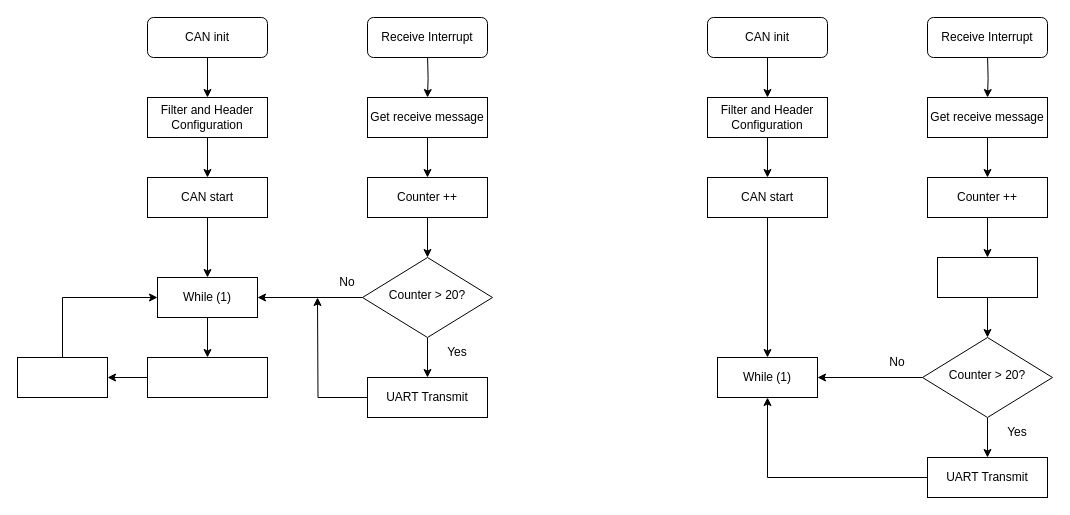
Some shapes in this 1070 by 515 pixel diagram are drawn without their labels. Here are the shapes that lost their labels. From the top down, the centre of each, then its label:
the point at 987,277: Transmit back
the point at 62,377: Delay 100ms
the point at 207,377: Transmit message
